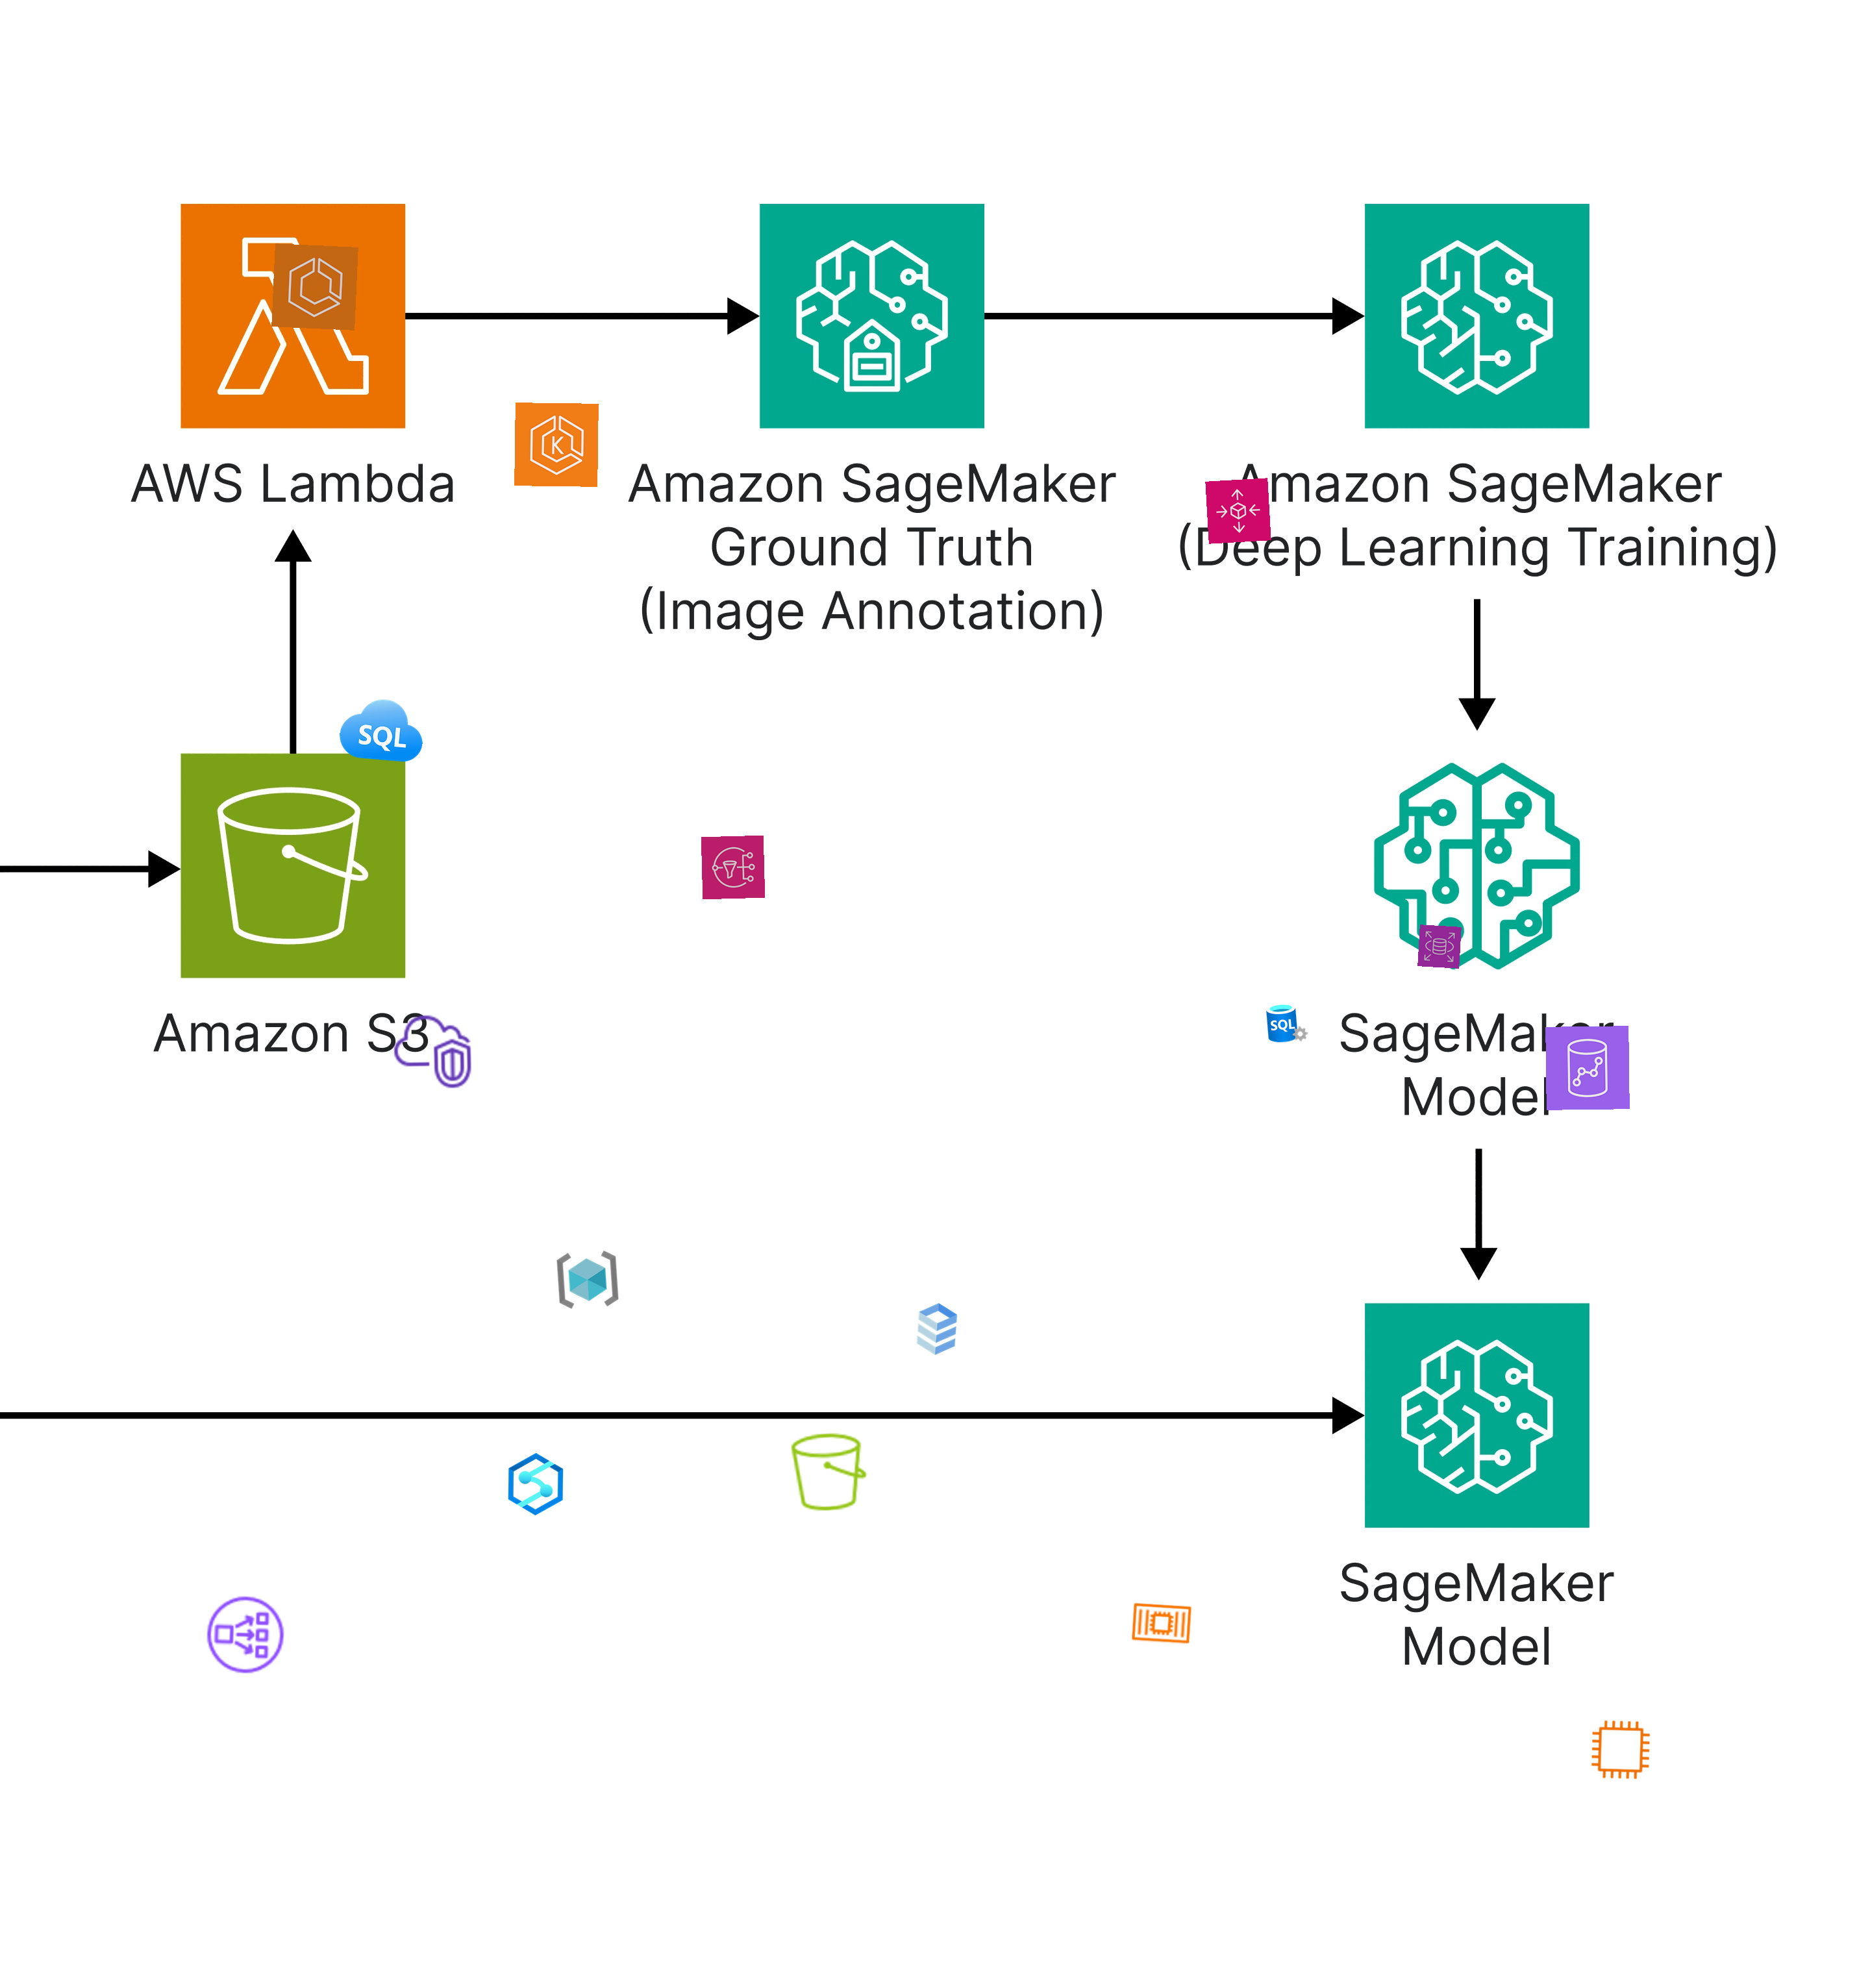aws_amazon_elastic_container_service: (271, 244, 359, 330)
aws_amazon_elastic_kubernetes_service: (515, 403, 599, 487)
aws_amazon_rds: (1417, 925, 1462, 969)
aws_amazon_redshift: (1545, 1027, 1629, 1111)
aws_amazon_simple_notification_service: (701, 835, 766, 900)
aws_auto_scaling: (1206, 478, 1271, 545)
aws_ec2_instance: (1589, 1717, 1654, 1782)
aws_elastic_container_service_container_2: (1128, 1591, 1195, 1656)
aws_elastic_load_balancing_network_load_balancer: (202, 1593, 288, 1677)
aws_simple_storage_service_s3_standard: (786, 1427, 873, 1515)
aws_vpc_virtual_private_cloud_vpc: (390, 1009, 475, 1095)
azure_resource_groups: (554, 1246, 622, 1313)
azure_sql: (336, 686, 427, 777)
azure_sql_server: (1264, 1000, 1309, 1046)
azure_synapse_analytics: (504, 1452, 568, 1515)
gcp_cloud_sql: (903, 1295, 970, 1362)
